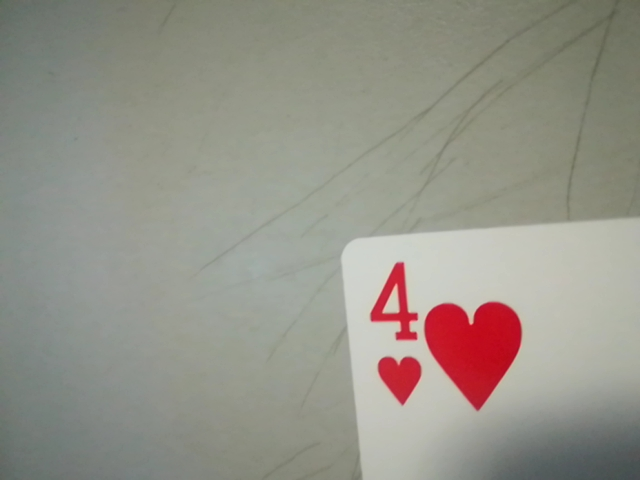hx 4: (357, 249, 430, 417)
